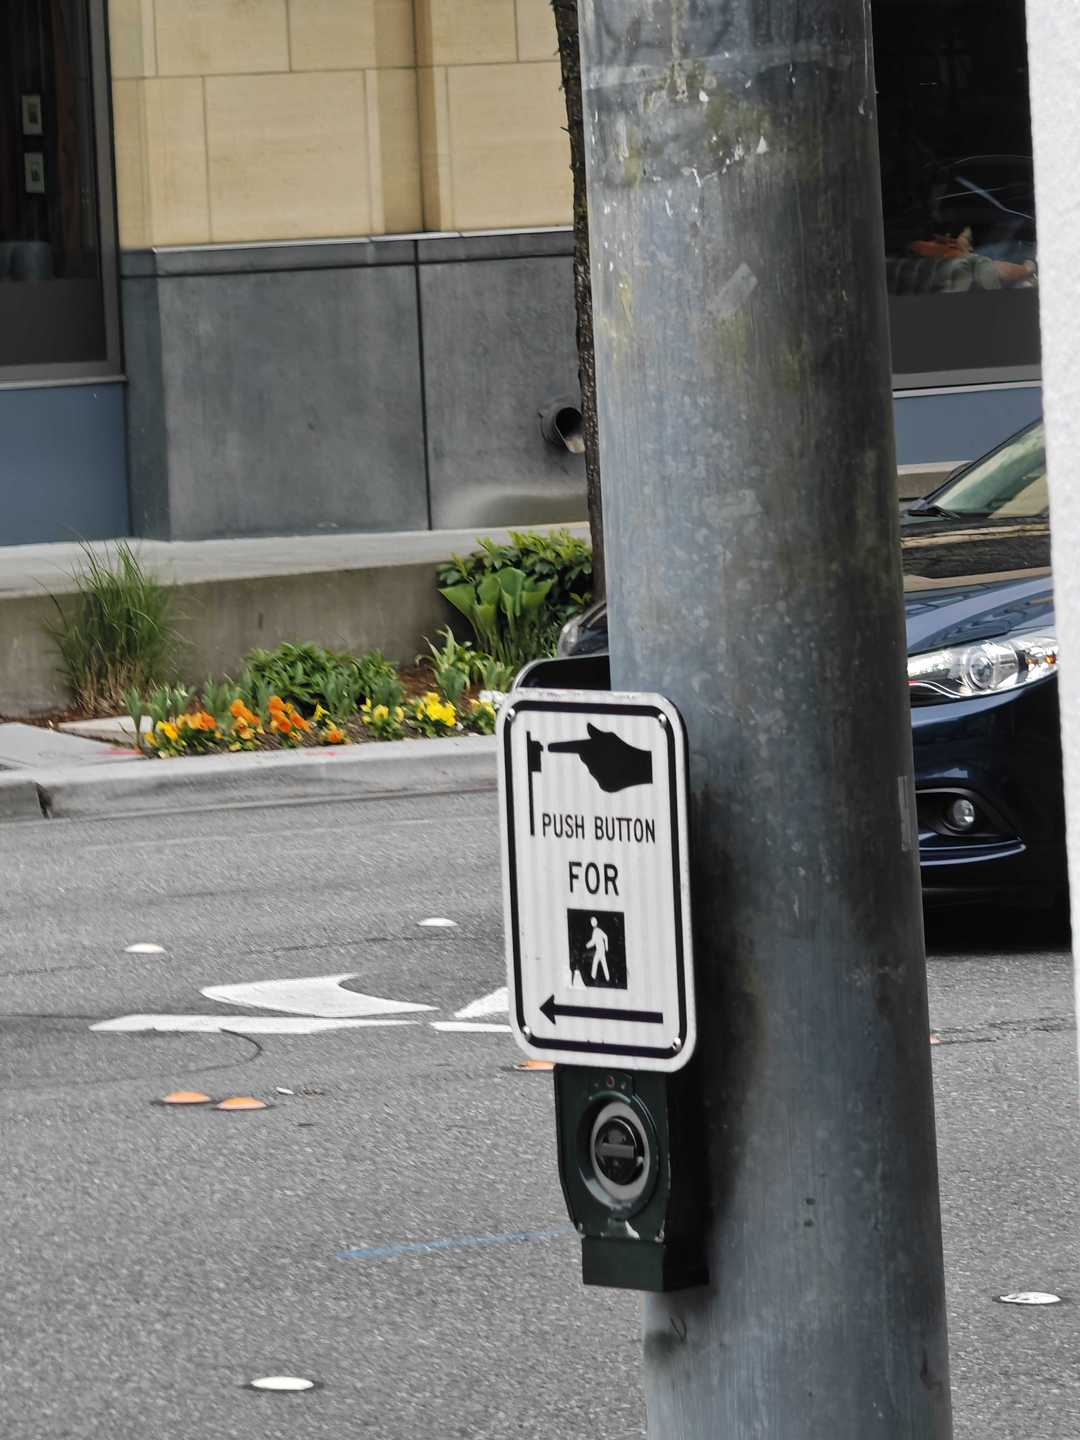ped_button: (492, 677, 699, 1294)
